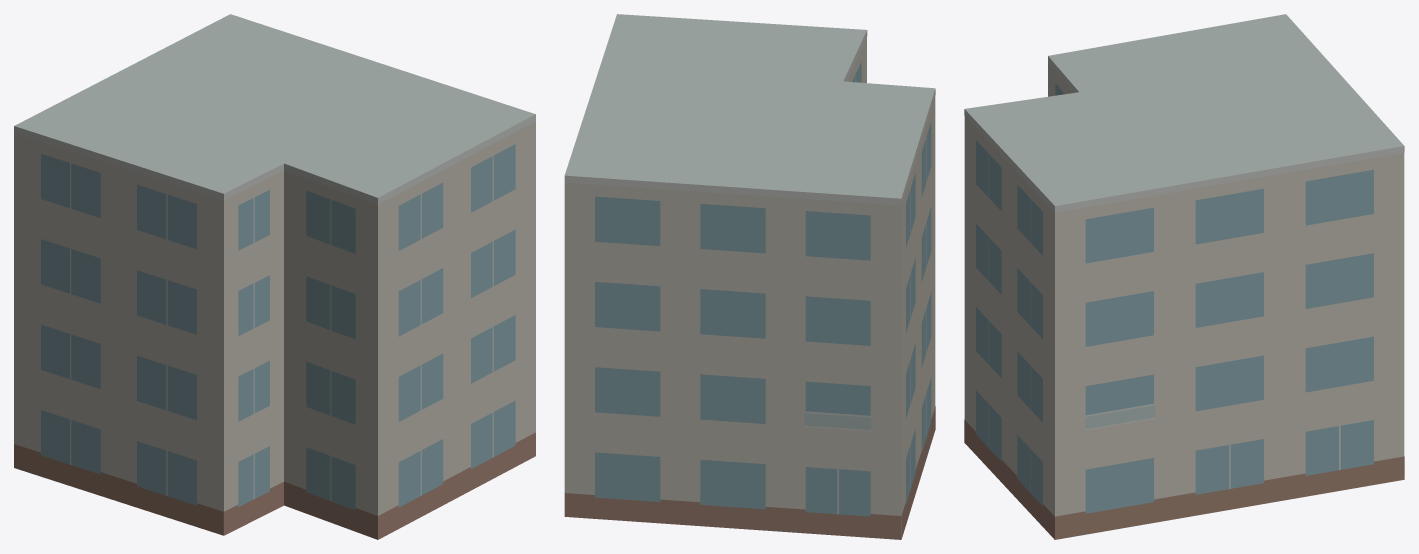
File: survey-upis-32853066.glb
The picture shows the model from 3 angles, left to right: view 1: azimuth 30°, elevation 25°; view 2: azimuth 150°, elevation 25°; view 3: azimuth 270°, elevation 25°; orthographic projection. The views are drawn at different scales.
Parts seen in each view (by area): view 1: survey-upis-32853066.tmp; view 2: survey-upis-32853066.tmp; view 3: survey-upis-32853066.tmp.
Boxes of the visible parts, bbox=[...] form: survey-upis-32853066.tmp: bbox=[14, 14, 535, 539]; survey-upis-32853066.tmp: bbox=[564, 14, 935, 539]; survey-upis-32853066.tmp: bbox=[964, 14, 1404, 539].
Bounding box in the file's own units: 15.12 × 12.24 × 14.63.
